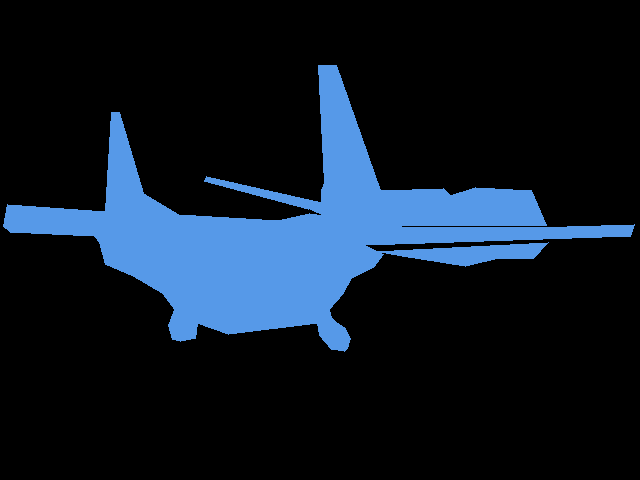Airplane: (3, 112, 635, 352), (204, 65, 548, 266)
